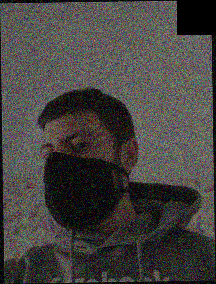with_mask: (40, 128, 118, 232)
